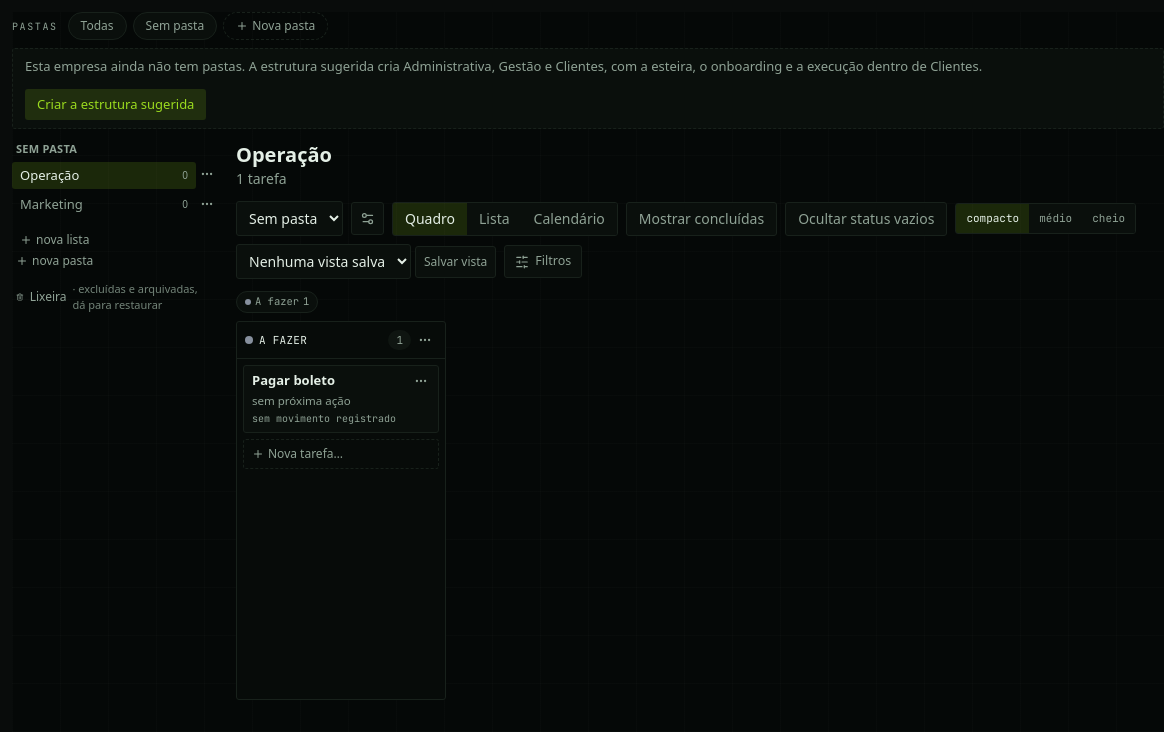
Test: I4: o menu da tarefa › Shift+F10 e o "⋯" abrem o mesmo menu (teclado e toque)
Press F10 in the button "Pagar boleto", box [252,372,335,390]
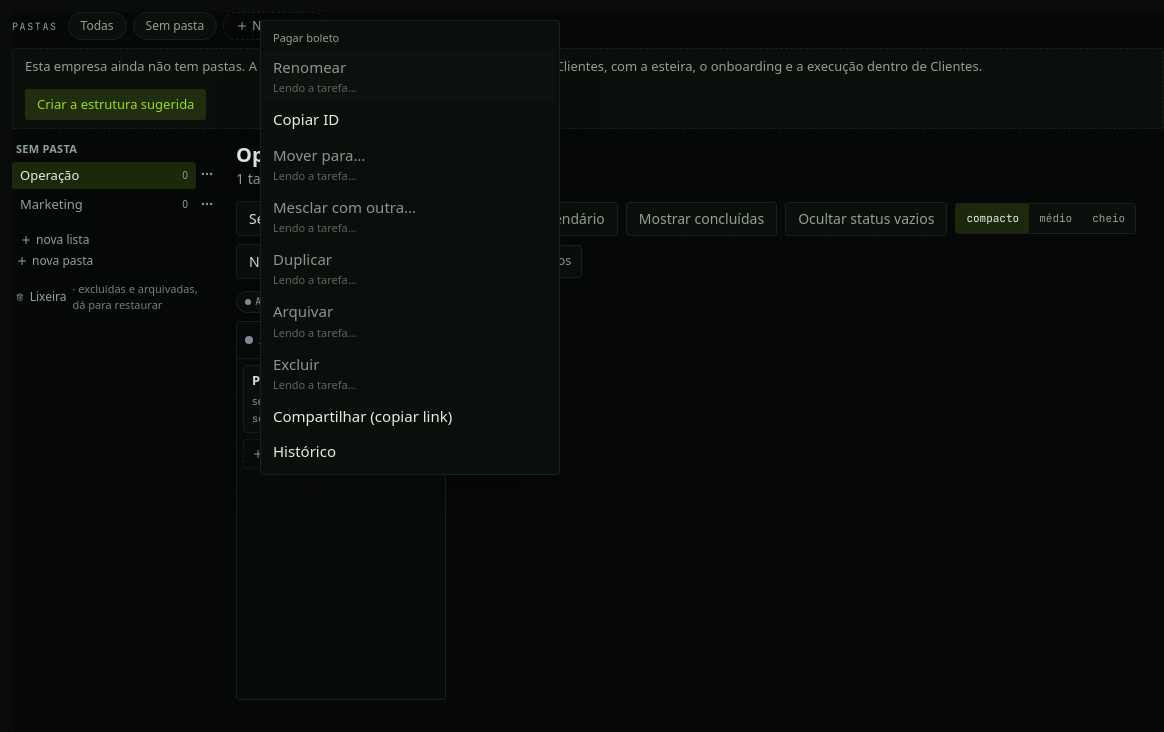
Expected: the menu with test id "menu-da-tarefa" is shown, [260,20,560,475]
Press the mouse on the element that starts with "Pastas" at {"x": 588, "y": 372}, box [12,12,1163,731]
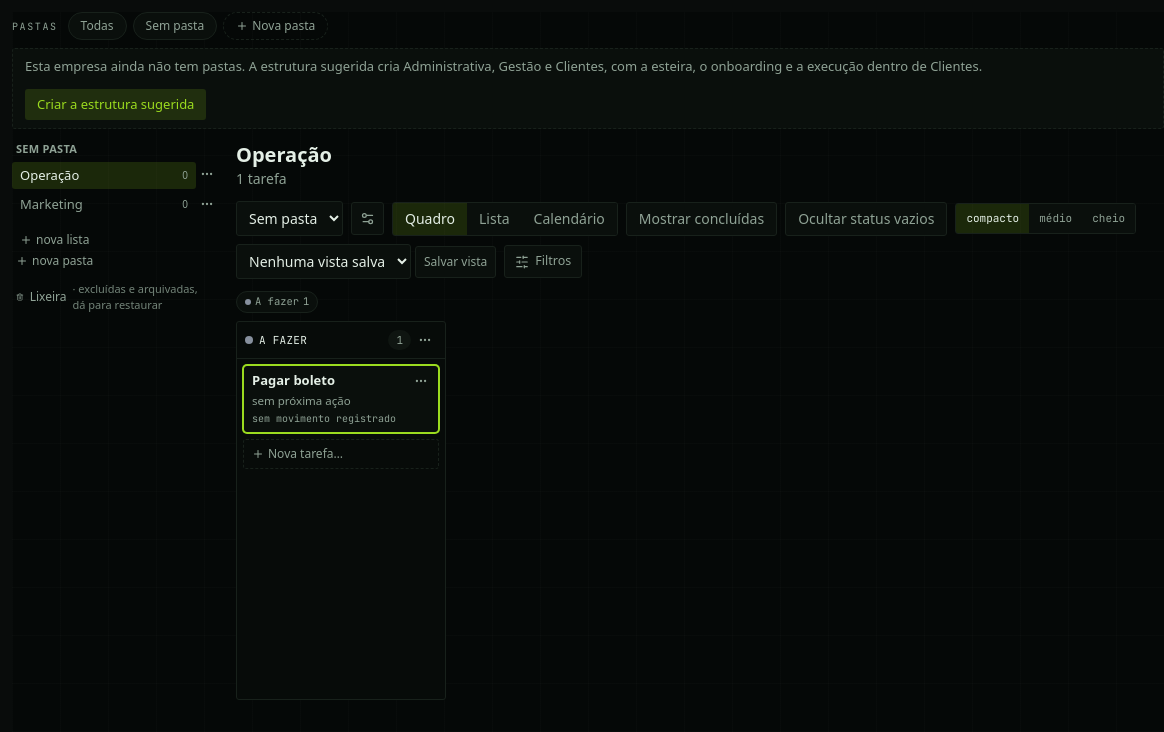
Expected: the menu with test id "menu-da-tarefa" is gone
Click the button named "Ações da tarefa Pagar boleto" at {"x": 421, "y": 381}, box [412,372,430,390]
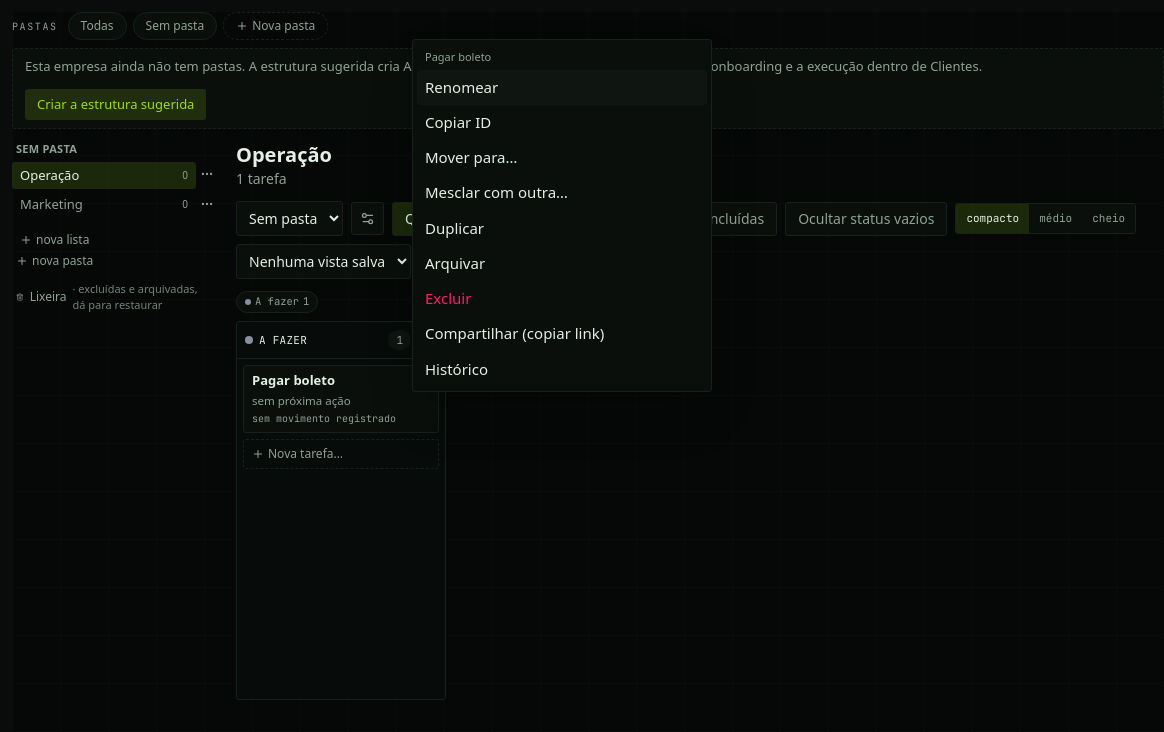
Expected: the menu with test id "menu-da-tarefa" is shown, [412,40,712,392]
